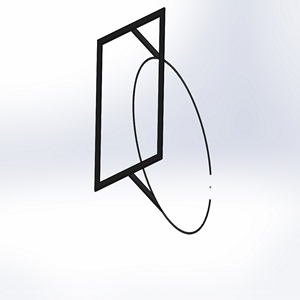circle: (90, 4, 217, 236)
